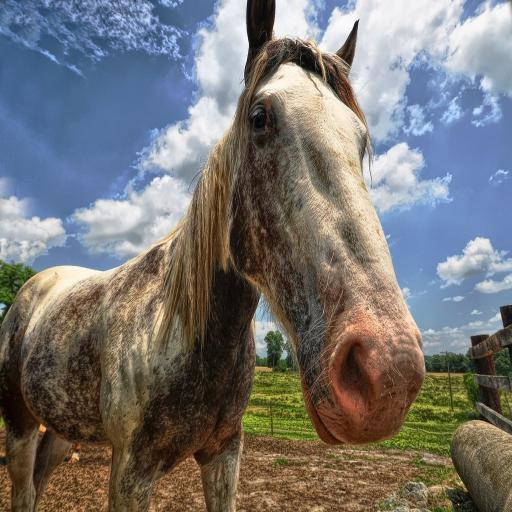horse: (0, 0, 428, 512)
